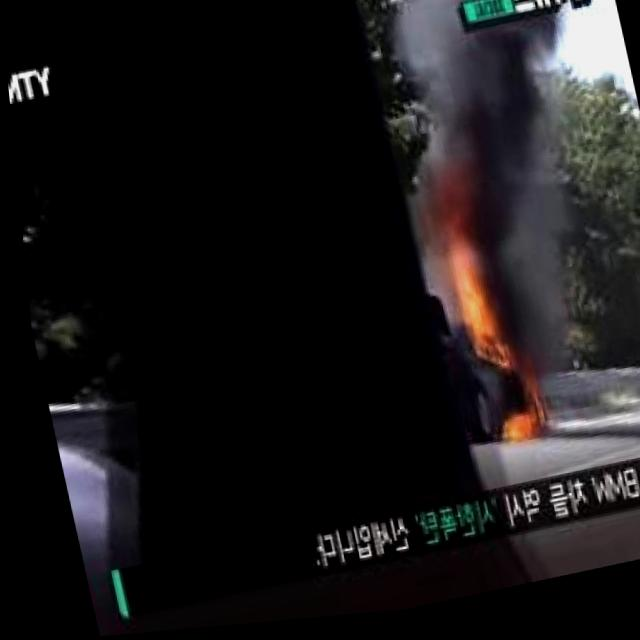Fire: (438, 274, 506, 383), (478, 410, 532, 454)
Smoke: (376, 21, 593, 279)
